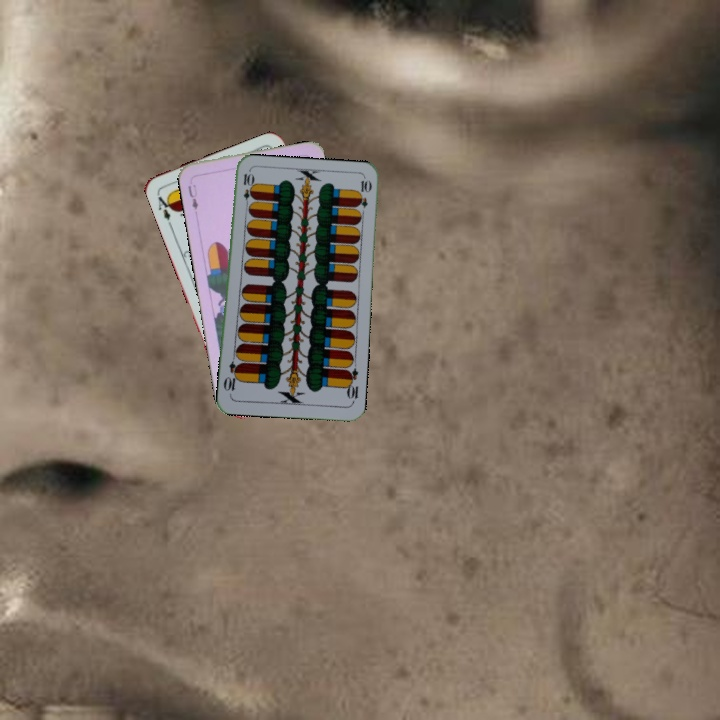E10: (342, 365, 361, 405), (239, 169, 254, 210)
EA: (153, 189, 176, 223)
EU: (184, 180, 201, 212)
